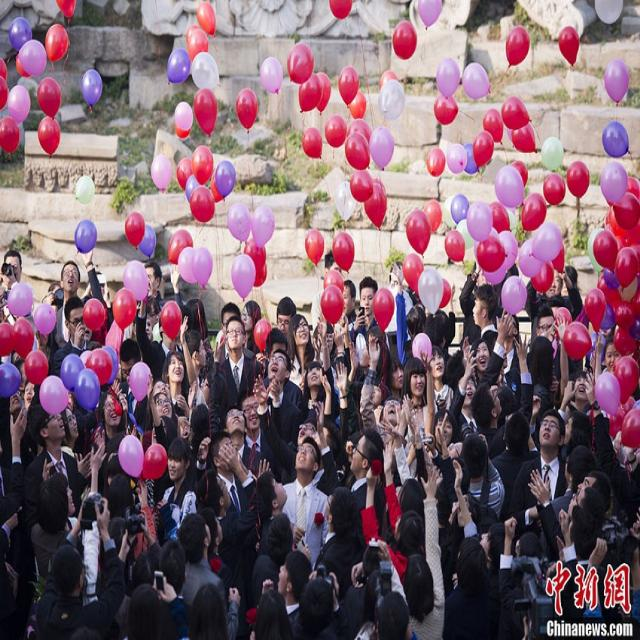body: (31, 487, 126, 640), (251, 372, 342, 497), (586, 371, 640, 564), (194, 442, 262, 590), (361, 437, 427, 589), (54, 440, 108, 608), (20, 400, 82, 546), (577, 496, 639, 639), (469, 332, 535, 462), (526, 467, 613, 565), (178, 511, 242, 640), (422, 456, 482, 592), (509, 408, 569, 541), (278, 435, 334, 574), (45, 245, 108, 368), (358, 333, 421, 455), (209, 314, 264, 449), (524, 406, 569, 560), (30, 478, 90, 588), (376, 464, 427, 592), (113, 506, 161, 640), (193, 404, 269, 485), (498, 514, 546, 640), (490, 410, 541, 528), (555, 310, 607, 425), (313, 485, 362, 604), (262, 346, 303, 487), (352, 539, 408, 640), (544, 445, 596, 552), (269, 372, 317, 487), (523, 263, 584, 351), (254, 469, 312, 561), (136, 284, 188, 385), (286, 561, 353, 639), (0, 409, 29, 588), (153, 435, 200, 543), (122, 568, 192, 640), (106, 470, 160, 563), (345, 428, 385, 553), (260, 548, 314, 640), (545, 506, 587, 618), (249, 512, 295, 613), (197, 509, 241, 614), (458, 254, 508, 346), (460, 431, 506, 530), (461, 308, 520, 385), (299, 309, 337, 427), (386, 257, 430, 357), (111, 338, 150, 440), (315, 362, 350, 472), (236, 388, 278, 476), (208, 429, 248, 520), (50, 294, 92, 378), (261, 325, 302, 411), (348, 275, 392, 355), (179, 323, 213, 426), (446, 348, 480, 445), (310, 248, 346, 338), (355, 592, 422, 640), (399, 356, 437, 438), (155, 315, 190, 404), (92, 388, 138, 451), (156, 538, 192, 617), (423, 416, 465, 482), (59, 406, 88, 500), (534, 313, 562, 410), (212, 300, 255, 363), (184, 297, 215, 384), (186, 581, 230, 640), (288, 312, 317, 398), (146, 378, 191, 432), (533, 306, 562, 387), (50, 471, 83, 538), (559, 264, 591, 330), (253, 590, 294, 640), (144, 377, 181, 432), (8, 345, 35, 418), (428, 343, 454, 415), (460, 334, 493, 390), (135, 259, 167, 315), (358, 325, 388, 384), (471, 282, 500, 341), (0, 249, 23, 322), (479, 521, 507, 572), (432, 406, 459, 456), (240, 298, 263, 354), (444, 280, 462, 345), (311, 319, 337, 362), (425, 308, 451, 349), (276, 294, 296, 340), (44, 280, 64, 326), (342, 278, 357, 330), (144, 293, 162, 332), (603, 339, 622, 375), (87, 270, 110, 299), (499, 257, 519, 282), (564, 261, 580, 290), (144, 311, 154, 344)
